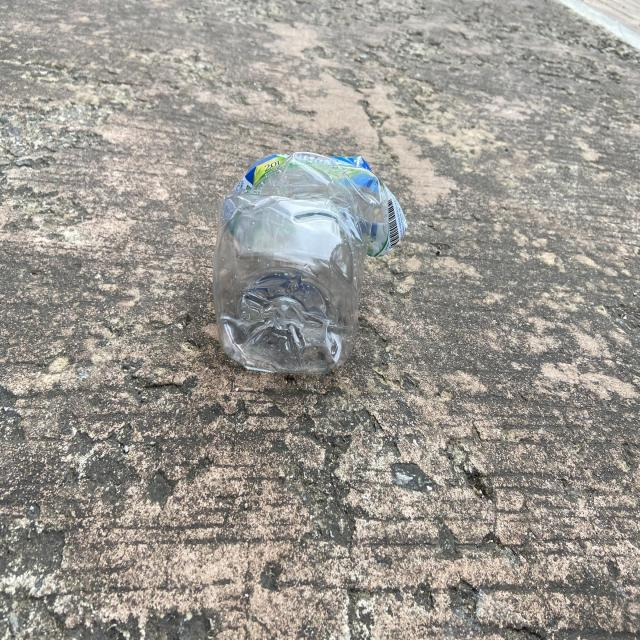plastic: (213, 151, 407, 373)
